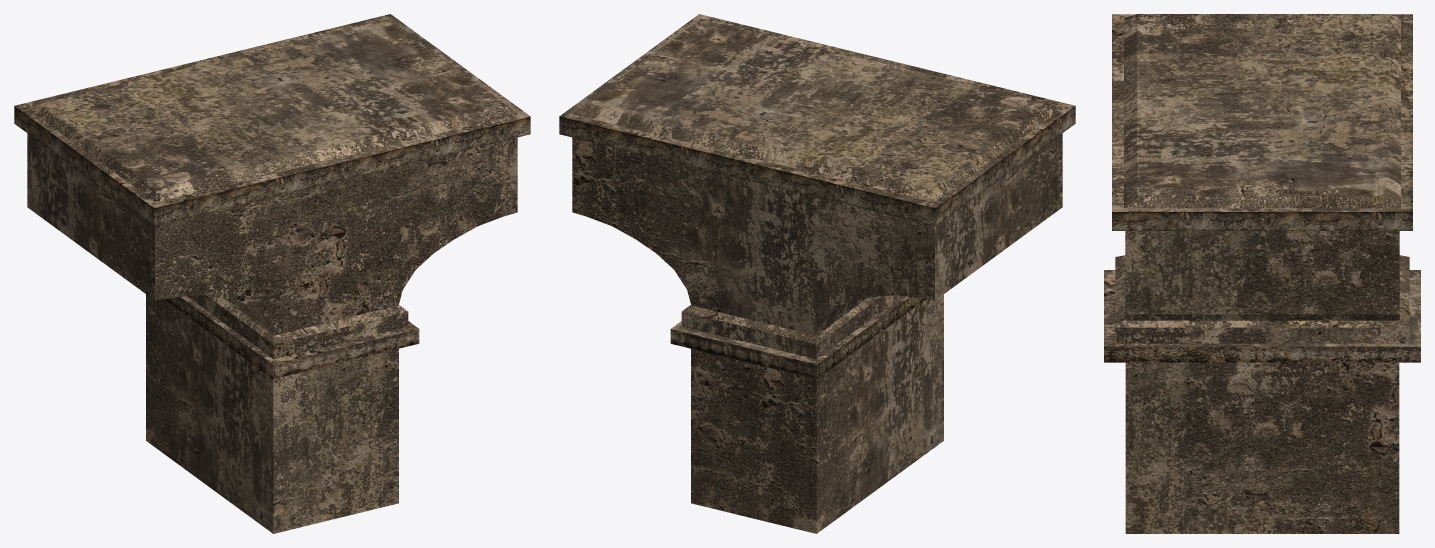
Rendered from materials_5_decoration_6.fbx.
3 views of the same model, side by side, from view 1: azimuth 30°, elevation 25°; view 2: azimuth 150°, elevation 25°; view 3: azimuth 270°, elevation 25° (orthographic). The views are drawn at different scales.
Parts seen in each view (by area): view 1: materials_5_decoration_6; view 2: materials_5_decoration_6; view 3: materials_5_decoration_6.
Part boxes in pixels (x1,y1,x2,y2): materials_5_decoration_6: (14, 14, 530, 533); materials_5_decoration_6: (559, 14, 1075, 533); materials_5_decoration_6: (1104, 14, 1420, 533).
Size of the model in its own units: 176 by 164 by 119.
